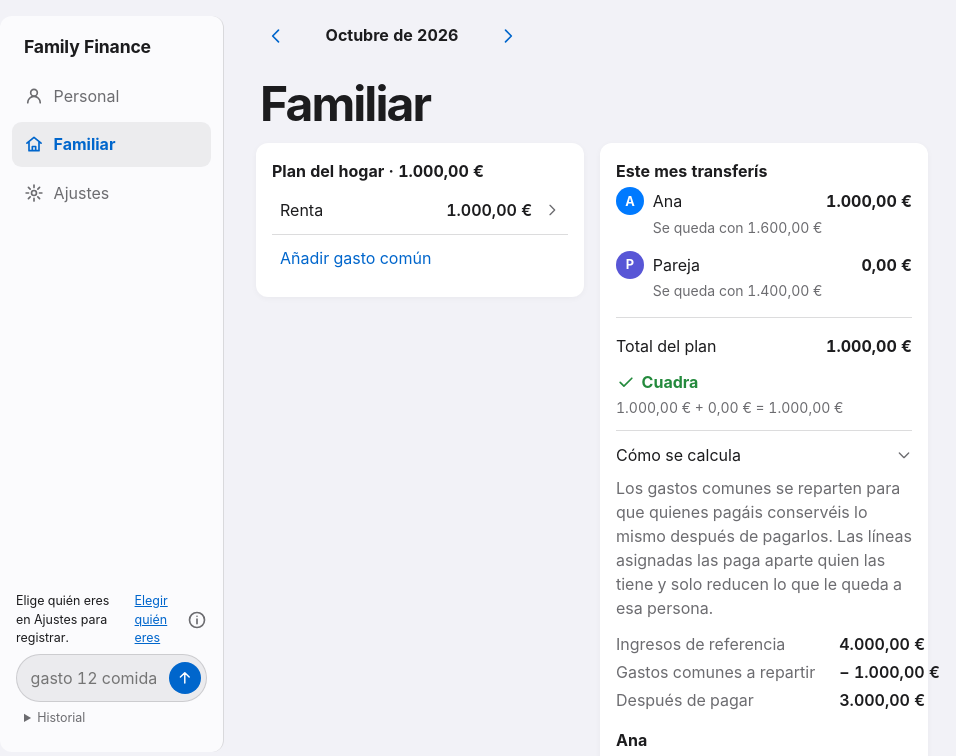
it: family › E1-1: a finished month keeps its plan after a change, and cannot be edited
The width and height of the screenshot is (956, 756).
Expected: the text "Renta" is shown, x1=280 y1=200 x2=323 y2=220
Click the button named "Mes anterior" at (276, 36), box x1=256 y1=16 x2=296 y2=56
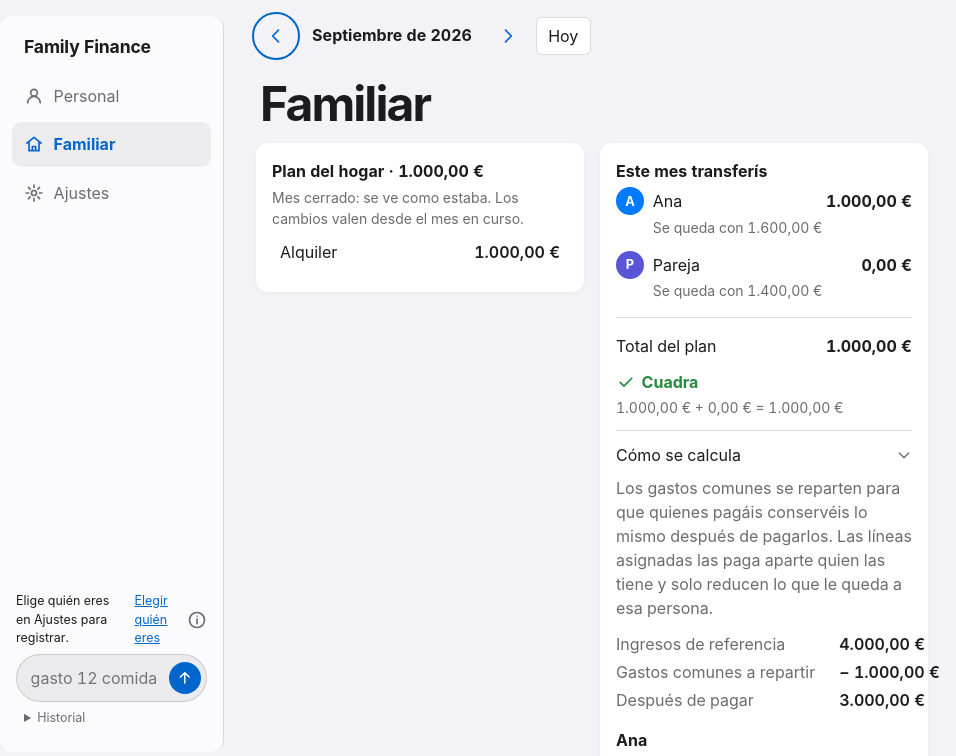
Now the button "Alquiler 1.000,00 €" is disabled, box x1=272 y1=229 x2=568 y2=276
Now the button "Añadir gasto común" is gone
